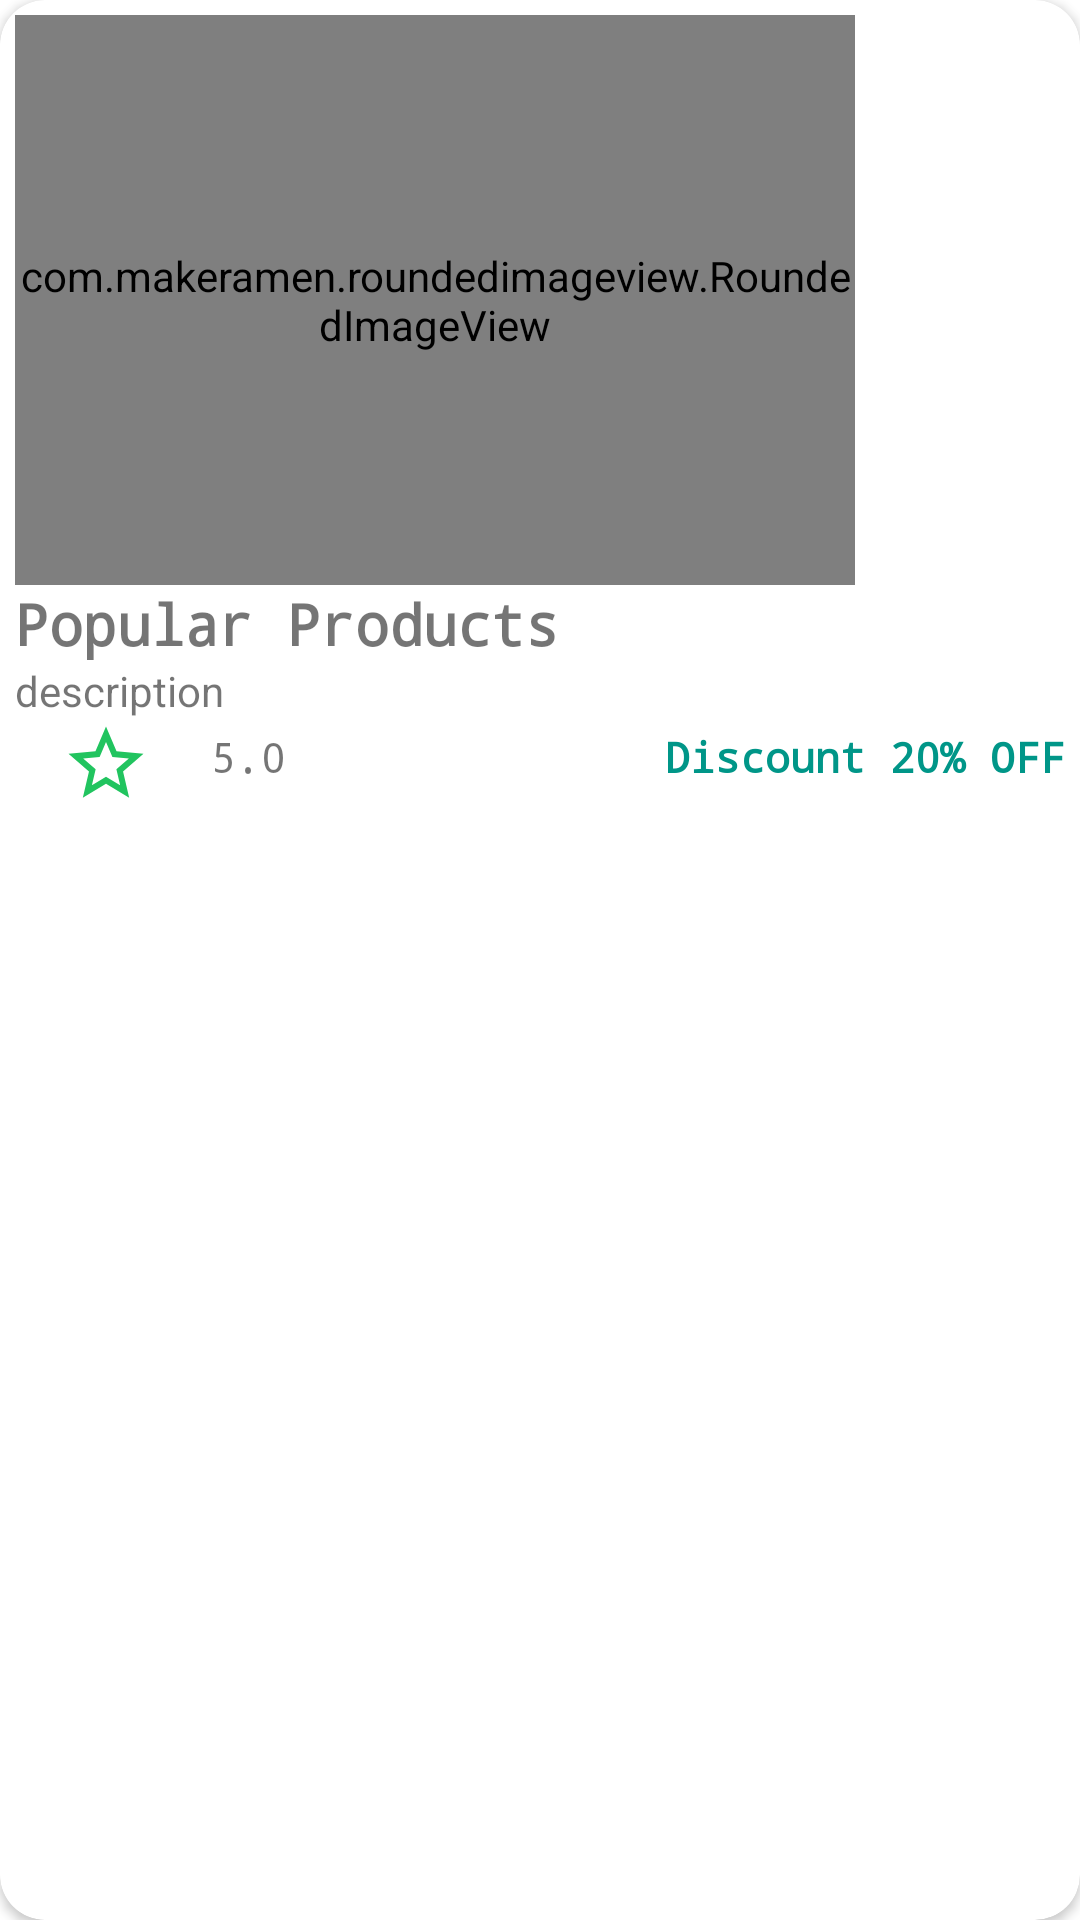

Screen size 1080 x 1920. Icon name, then its box in pixels as (x1, y1, x2, y2):
star: (69, 727, 143, 798)
